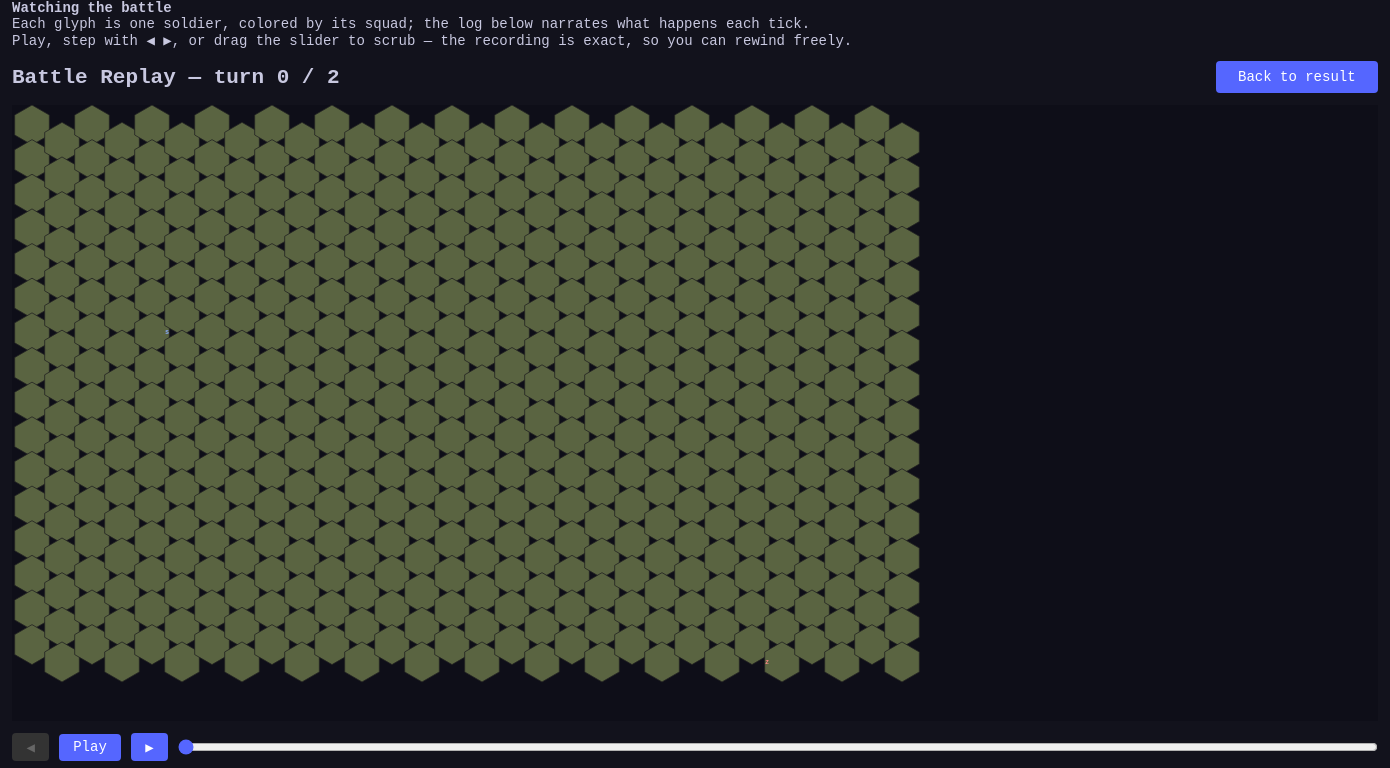
ReplayView › scrubbing the slider shows that tick and its log lines
Expected: the text "Z" is shown, left=765, top=658, right=769, bottom=666
Step 1. Set the slider with test id "replay-slider" to "2" → (1370, 747), box left=178, top=739, right=1378, bottom=755
(page scrolled)
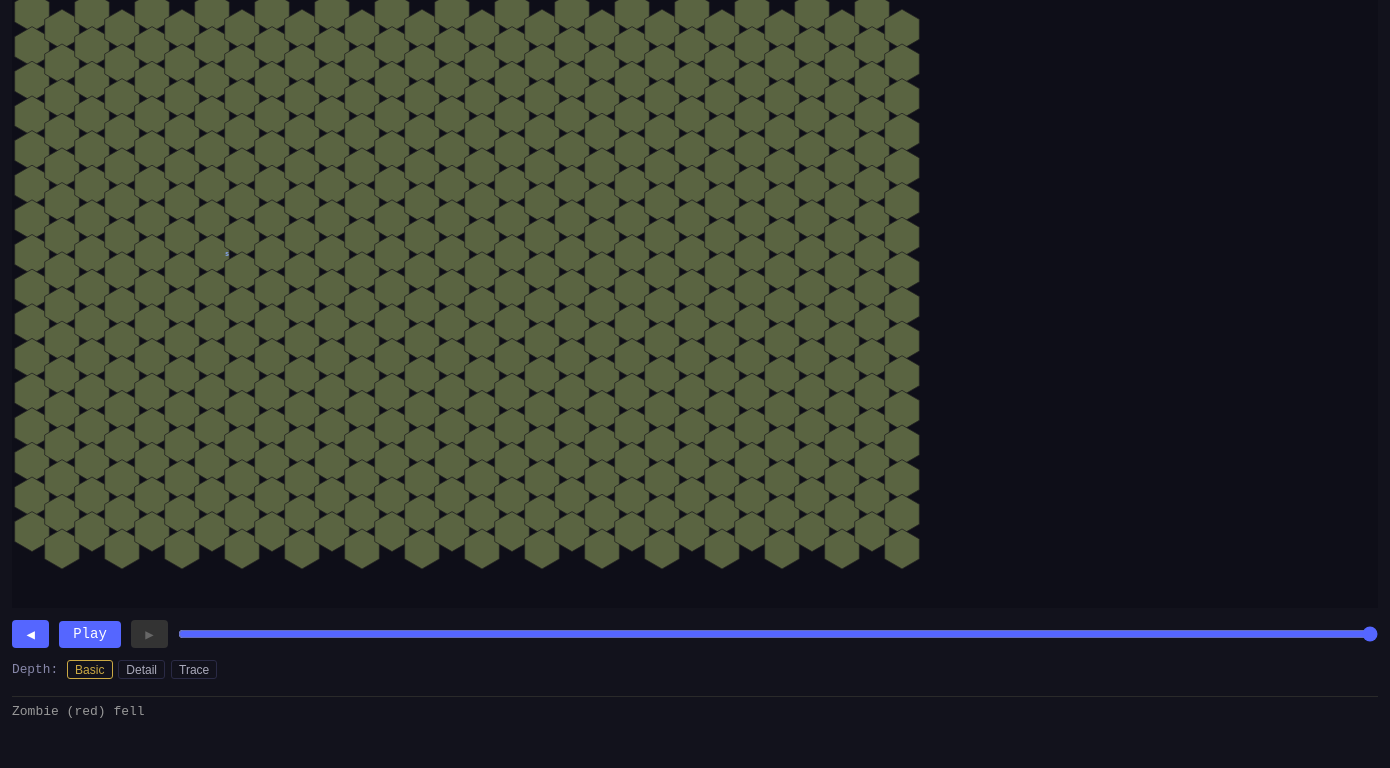
Expected: the text "S" is shown, left=225, top=251, right=229, bottom=258
Result: the text "Zombie (red) fell" is shown at left=12, top=704, right=145, bottom=719
